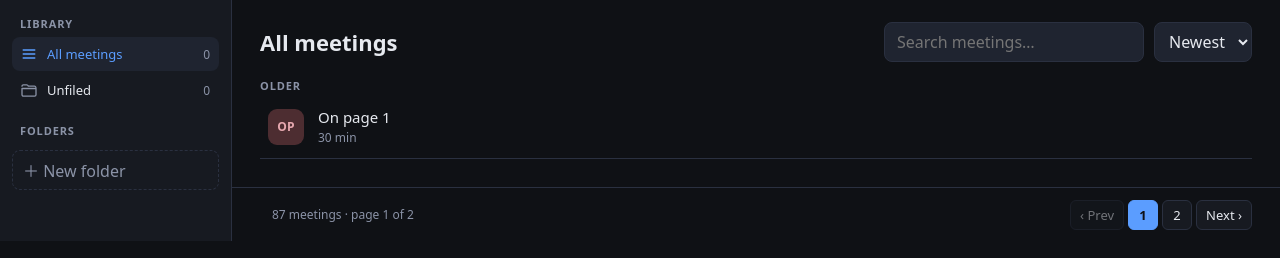
Library › pages through the meetings server-side
Expected: the text "On page 1" is shown, left=318, top=107, right=391, bottom=127
Click the button named "Page 2" at (1177, 214), box left=1162, top=200, right=1192, bottom=230
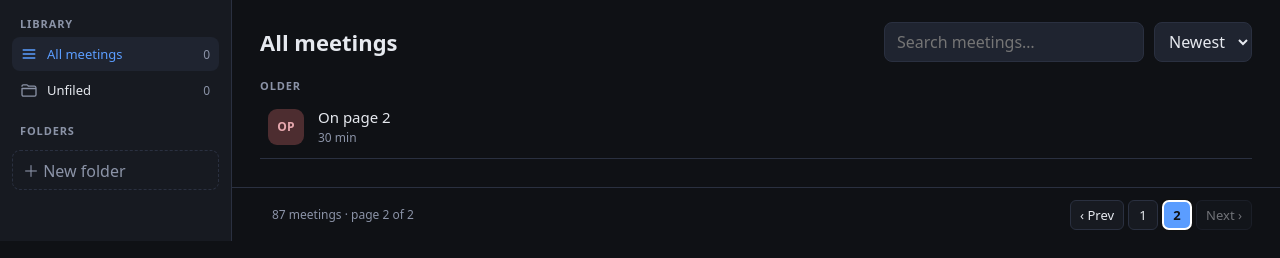
Expected: the text "On page 2" is shown, left=318, top=107, right=391, bottom=127
